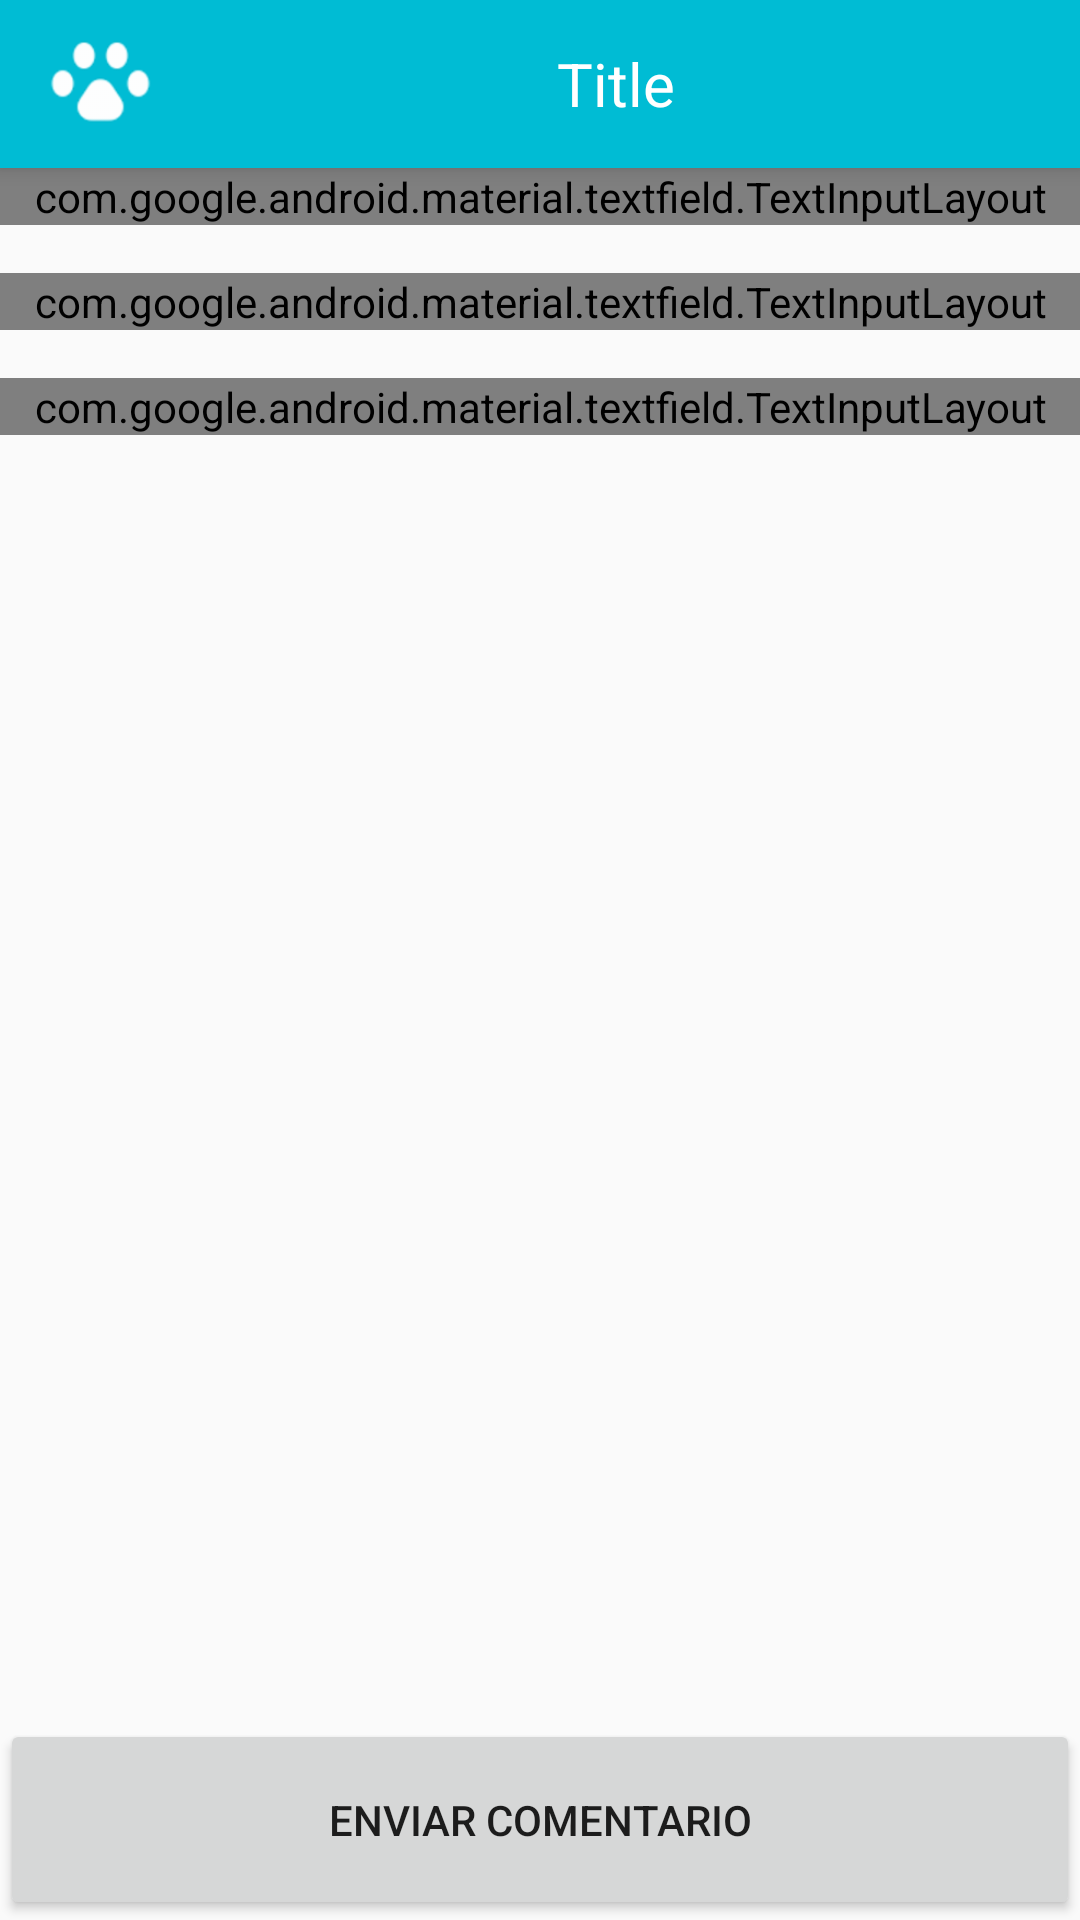

Where icons sit on this 1080*1920 app screen, as (x1, y1, x2, y2):
huella: (51, 42, 150, 122)
